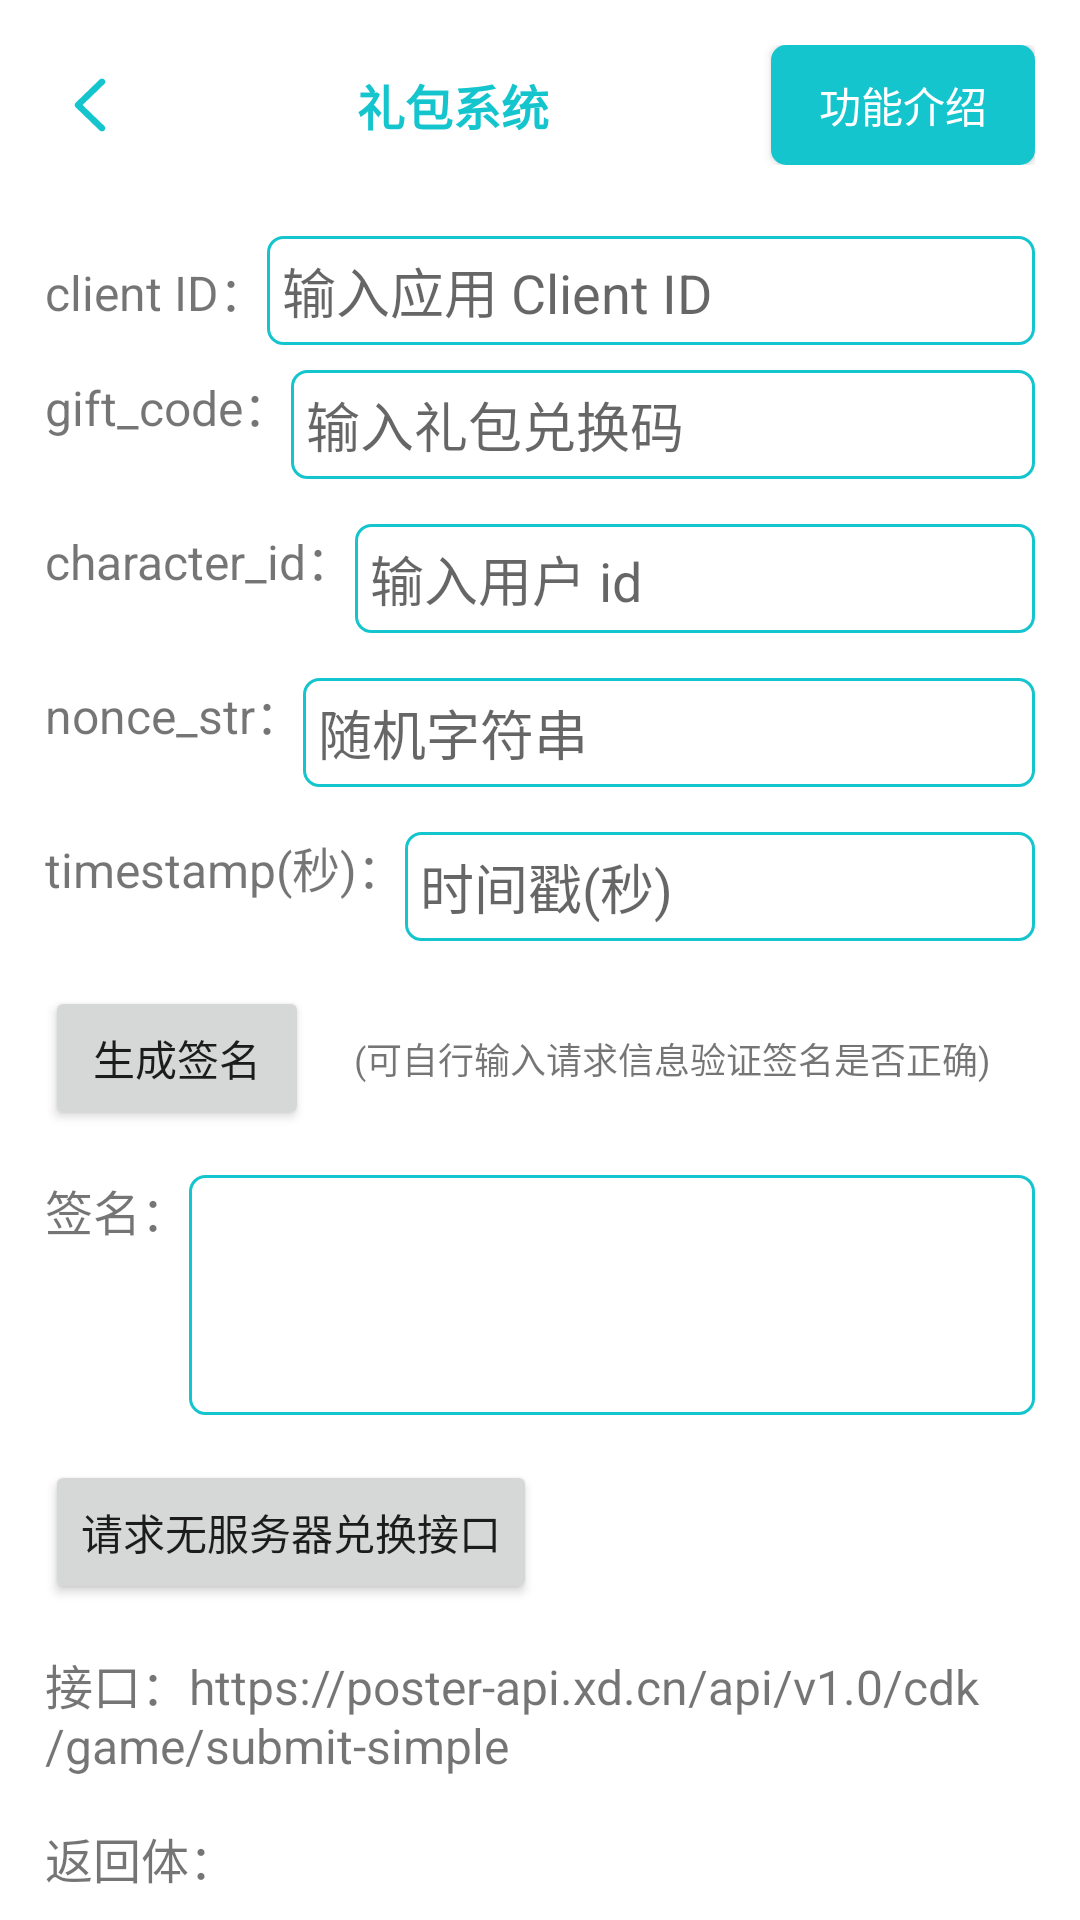

Icon bounding boxes for this 1080*1920 phone screenshot, format {"x1": x1, "y1": y1, "x2": x2, "y2": y2}:
back: {"x1": 74, "y1": 78, "x2": 106, "y2": 132}
